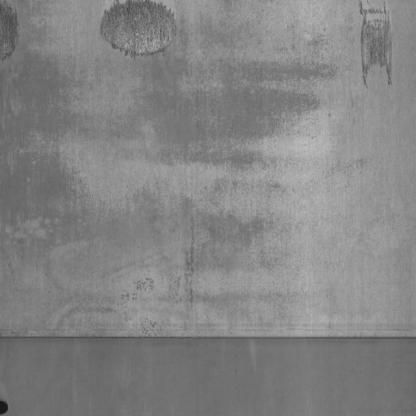rolled_pit: (87, 0, 193, 75), (341, 0, 401, 85), (0, 3, 26, 72)
